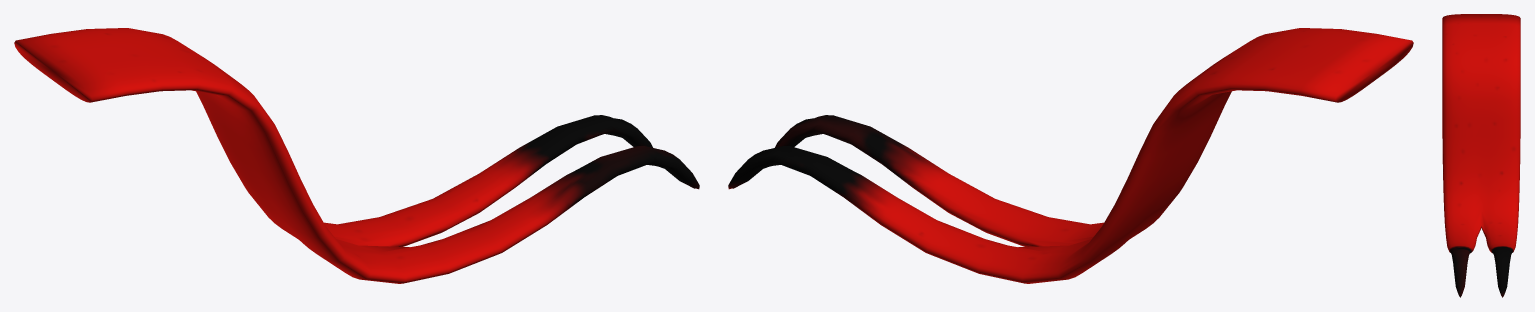
The model's file is LinguaDeCobra.fbx.
3 views of the same model, side by side, from view 1: azimuth 30°, elevation 25°; view 2: azimuth 150°, elevation 25°; view 3: azimuth 270°, elevation 25° (orthographic). The views are drawn at different scales.
Visible parts, largest first — view 1: Lingua de Cobra; view 2: Lingua de Cobra; view 3: Lingua de Cobra.
Boxes of the visible parts, box(x1,y1,x2,y2) form: Lingua de Cobra: box(14, 28, 699, 283); Lingua de Cobra: box(728, 28, 1413, 283); Lingua de Cobra: box(1442, 14, 1520, 297).
Size of the model in its own units: 228 by 97.18 by 49.52.
